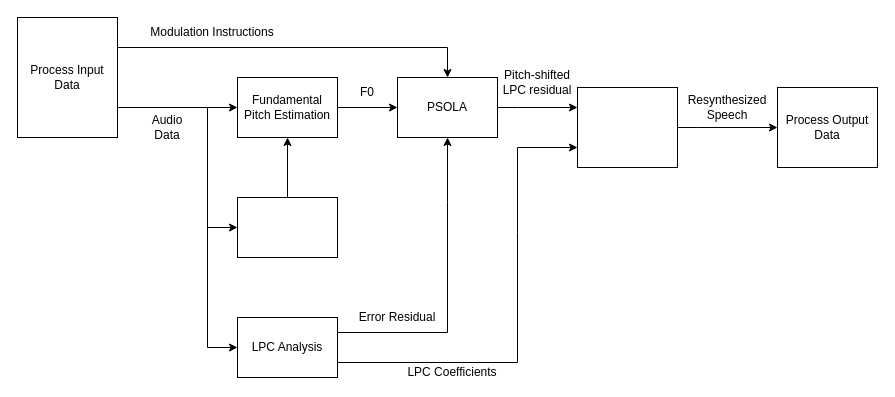
Some shapes in this 895 by 397 pixel diagram are drawn without their labels. Here are the shapes that lost their labels. From the top down, the centre of each, then its label:
the point at 627,127: LPC Synthesis
the point at 287,227: Voiced/Unvoiced Decision
